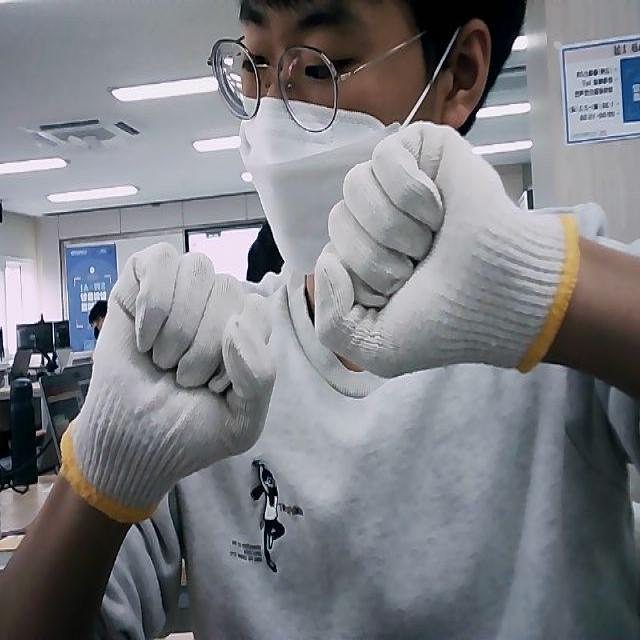gloves: (314, 122, 580, 380), (62, 244, 274, 522)
